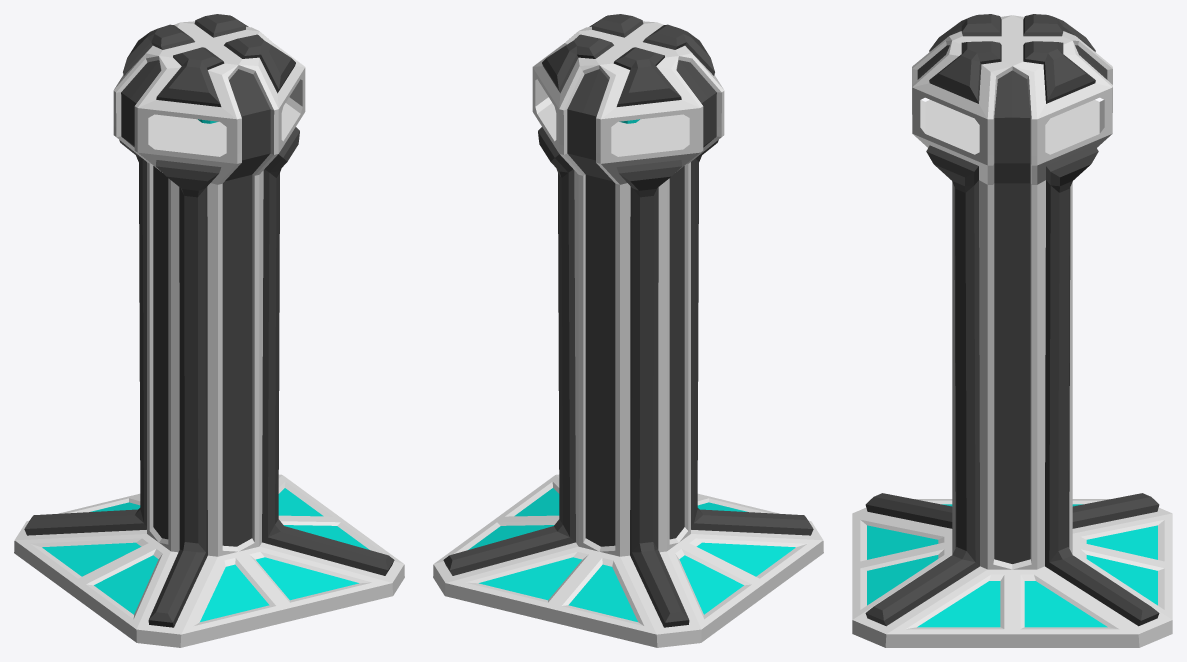
File: little Tower.fbx
The picture shows the model from 3 angles, left to right: view 1: azimuth 30°, elevation 25°; view 2: azimuth 150°, elevation 25°; view 3: azimuth 270°, elevation 25°; orthographic projection. The views are drawn at different scales.
Parts seen in each view (by area): view 1: Cube.001; view 2: Cube.001; view 3: Cube.001.
Boxes of the visible parts, bbox=[...] form: Cube.001: bbox=[14, 14, 404, 647]; Cube.001: bbox=[433, 14, 823, 647]; Cube.001: bbox=[852, 14, 1172, 647].
Size of the model in its own units: 800 by 1511 by 800.
